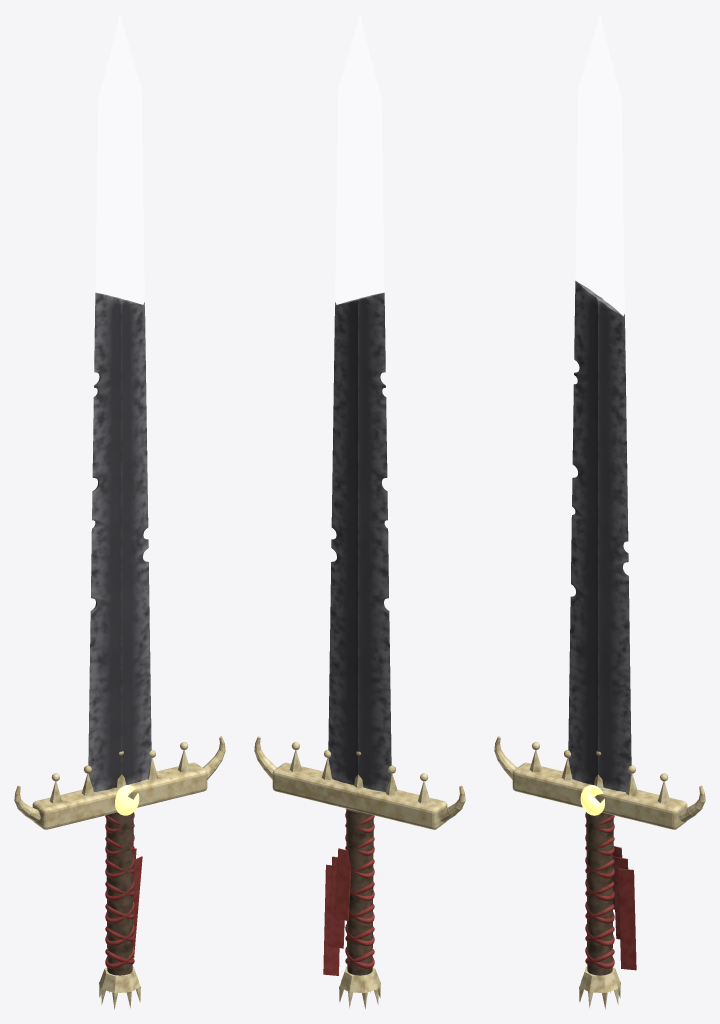
3 renders of one model, left to right at view 1: azimuth 30°, elevation 25°; view 2: azimuth 150°, elevation 25°; view 3: azimuth 330°, elevation 25°, orthographic.
Visible parts, largest first — view 1: metal_dark, ghost_blade, metal_gold, leather_dark, cloth_red, glow_edge; view 2: metal_dark, ghost_blade, metal_gold, cloth_red, leather_dark; view 3: metal_dark, ghost_blade, metal_gold, cloth_red, leather_dark, glow_edge.
Part boxes in pixels (left/top/right/bottom): metal_dark: left=88, top=292, right=151, bottom=792; ghost_blade: left=95, top=14, right=144, bottom=304; metal_gold: left=14, top=736, right=225, bottom=1009; leather_dark: left=106, top=812, right=133, bottom=975; cloth_red: left=105, top=812, right=142, bottom=968; glow_edge: left=115, top=785, right=139, bottom=815; metal_dark: left=328, top=292, right=391, bottom=792; ghost_blade: left=335, top=14, right=384, bottom=304; metal_gold: left=254, top=736, right=465, bottom=1009; cloth_red: left=323, top=812, right=374, bottom=975; leather_dark: left=346, top=808, right=373, bottom=975; metal_dark: left=568, top=280, right=631, bottom=792; ghost_blade: left=575, top=14, right=624, bottom=315; metal_gold: left=494, top=736, right=705, bottom=1009; cloth_red: left=585, top=812, right=636, bottom=970; leather_dark: left=586, top=812, right=613, bottom=975; glow_edge: left=580, top=785, right=604, bottom=815.
Bounding box in the file's own units: 0.4592 × 2.06 × 0.0853.
Materials: 6 (4 with a texture image).
